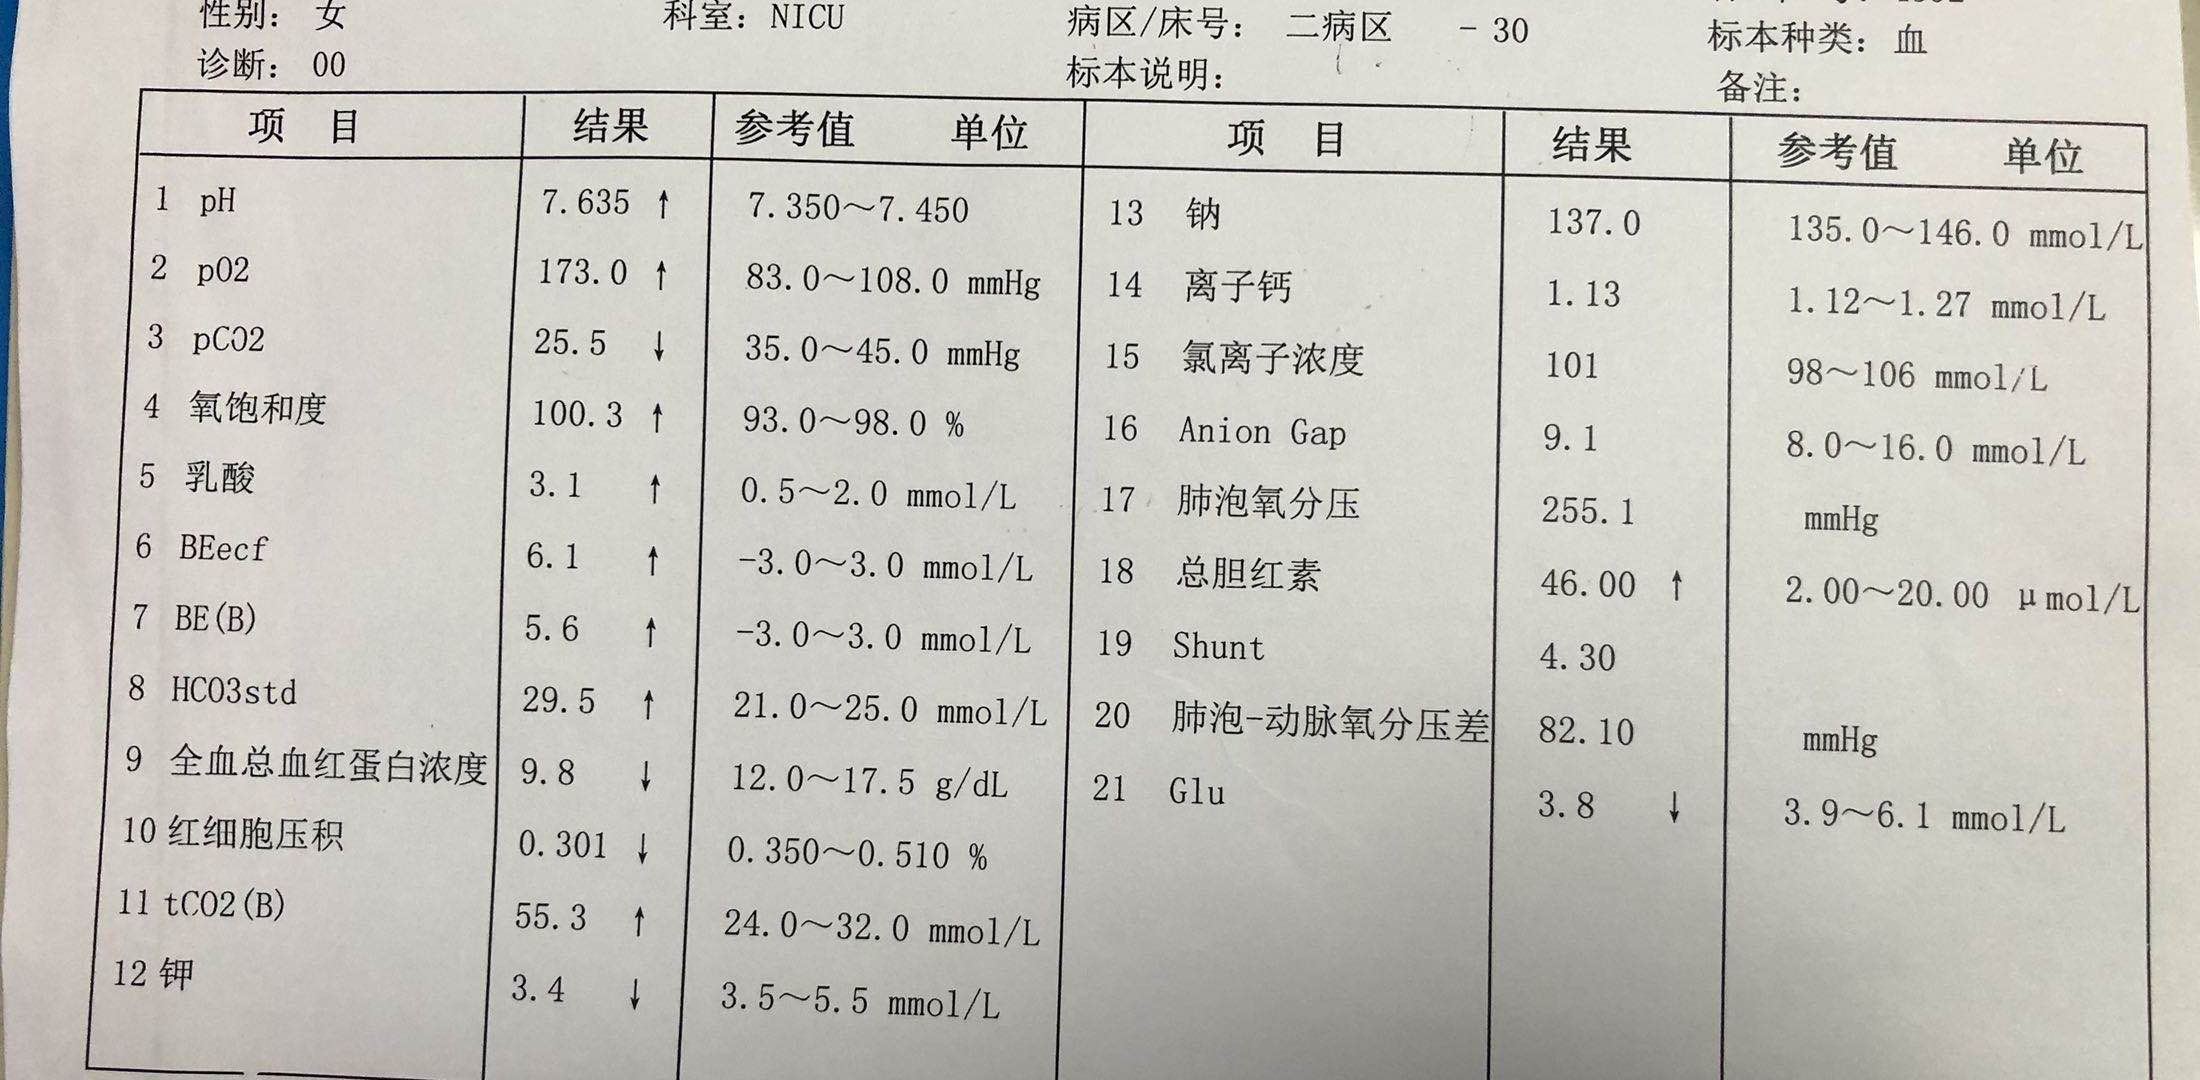table: (140, 91, 2159, 1080)
